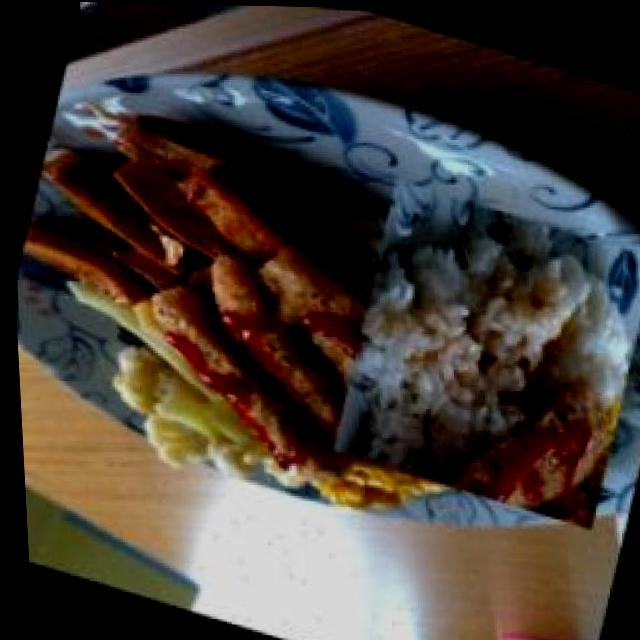rice: (307, 172, 640, 526)
